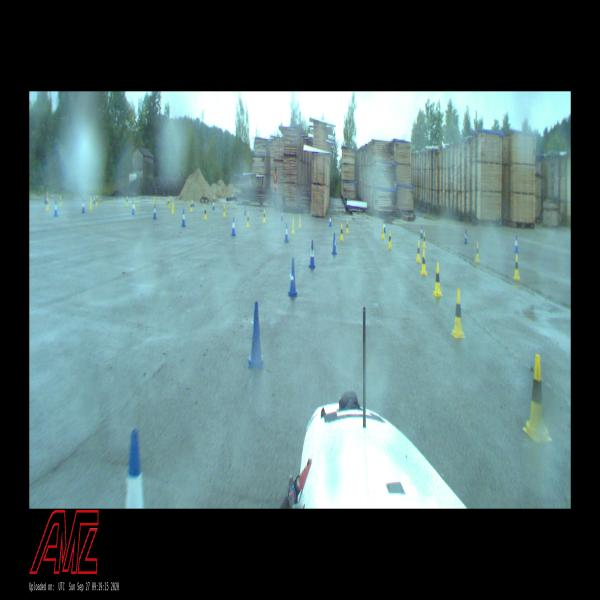blue_cone: (124, 427, 144, 509), (248, 301, 264, 370), (288, 258, 298, 296), (308, 240, 316, 269), (284, 222, 290, 244), (231, 216, 236, 237), (181, 209, 186, 228), (332, 232, 336, 255), (152, 203, 157, 220), (81, 198, 86, 214), (514, 235, 518, 254), (54, 199, 58, 217), (464, 229, 468, 244), (132, 200, 136, 215), (280, 208, 284, 222), (420, 224, 423, 240), (329, 214, 332, 227), (212, 198, 215, 211), (383, 220, 386, 233), (192, 197, 195, 207), (93, 194, 96, 204), (244, 204, 246, 216)
yellow_cone: (522, 353, 552, 443), (450, 288, 465, 338), (432, 262, 442, 298), (420, 248, 427, 275), (513, 254, 520, 280), (416, 239, 421, 263), (475, 242, 480, 263), (340, 223, 344, 242), (388, 230, 392, 249), (422, 230, 426, 249), (291, 217, 295, 234), (246, 212, 250, 228), (381, 225, 385, 241), (346, 219, 350, 234), (89, 196, 93, 211), (46, 196, 49, 211), (204, 205, 207, 220), (263, 209, 266, 223), (298, 214, 301, 228), (223, 204, 226, 217), (59, 195, 62, 207), (190, 200, 193, 212), (134, 197, 136, 211), (96, 194, 98, 207), (172, 201, 174, 214), (168, 198, 170, 209), (126, 196, 128, 206), (154, 196, 156, 206)
